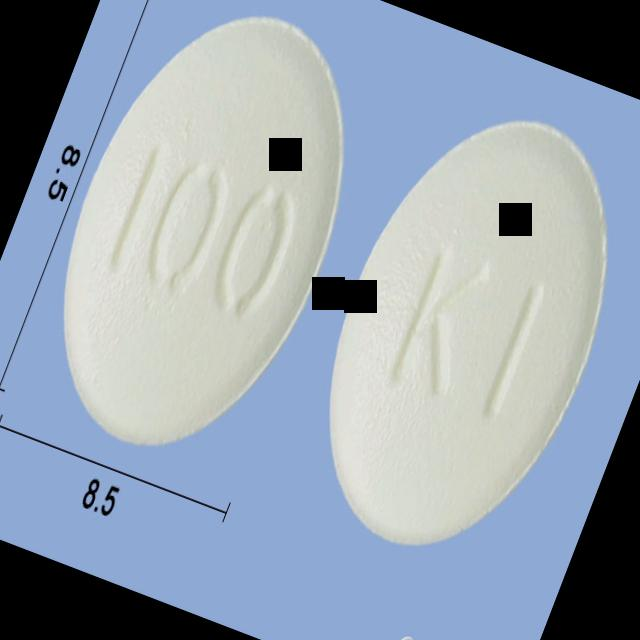Levogun - 500mg: (10, 0, 397, 484), (274, 78, 640, 583)
